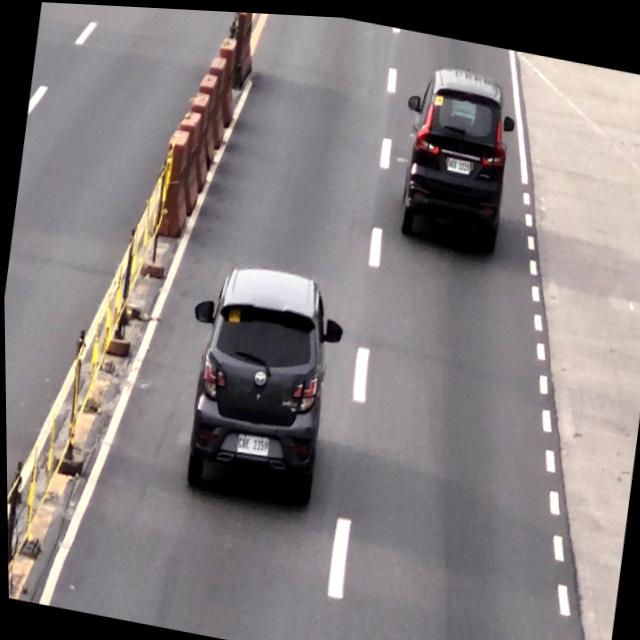Car: (177, 255, 343, 513), (396, 61, 516, 250)
License-Plate: (232, 428, 271, 459), (446, 151, 472, 174)
